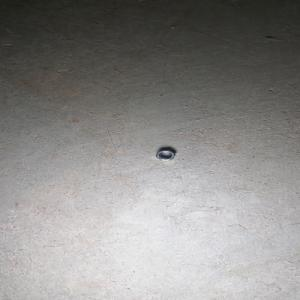Nut: (156, 149, 176, 161)
